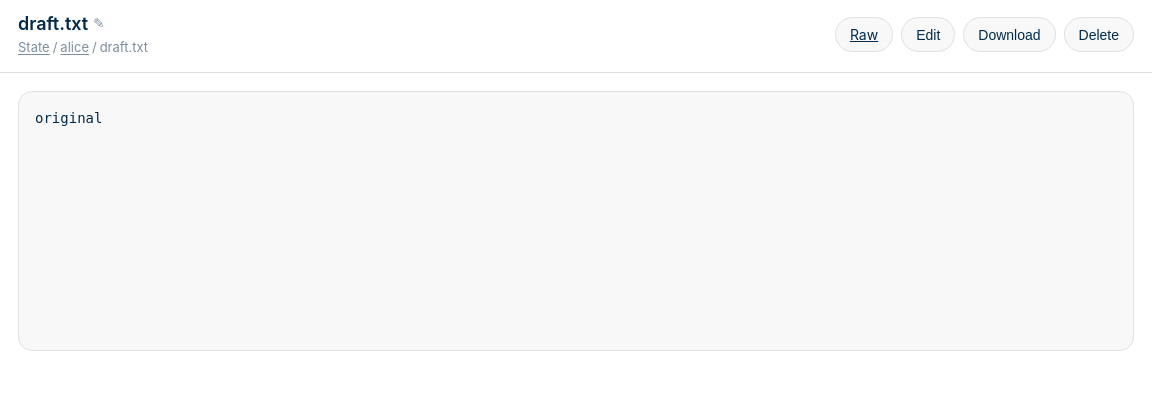
Scenario: ExplorerContent › keeps denied document edits in place and shows a localized save error
Click the button "Edit" at (928, 35), box 901,17 -> 955,52
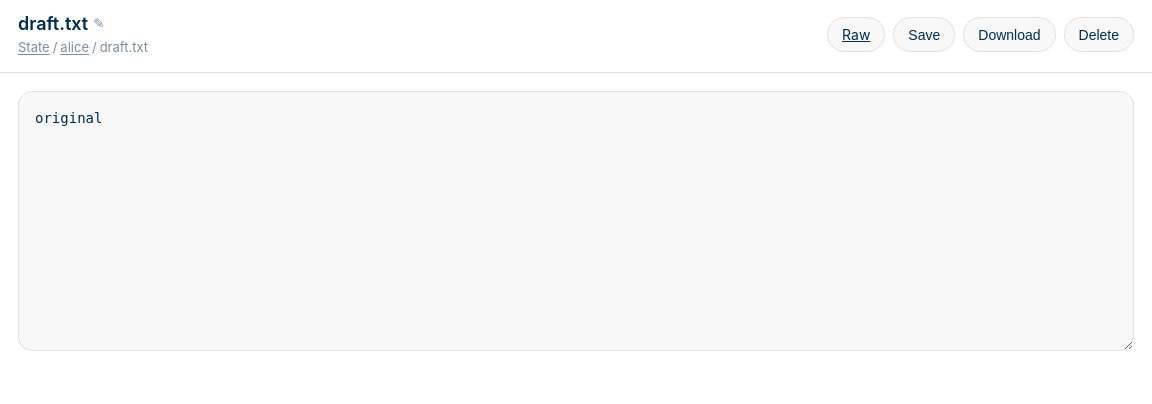
Replace the text in the text box named "Document content" with "unsaved denied edit" at (576, 221), box 18,91 -> 1134,351
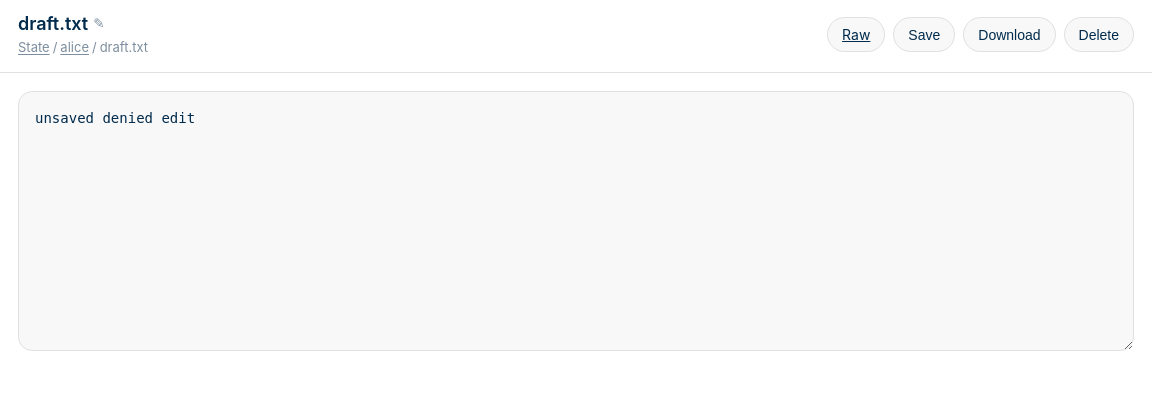
Click the button "Save" at (924, 35), box 893,17 -> 955,52
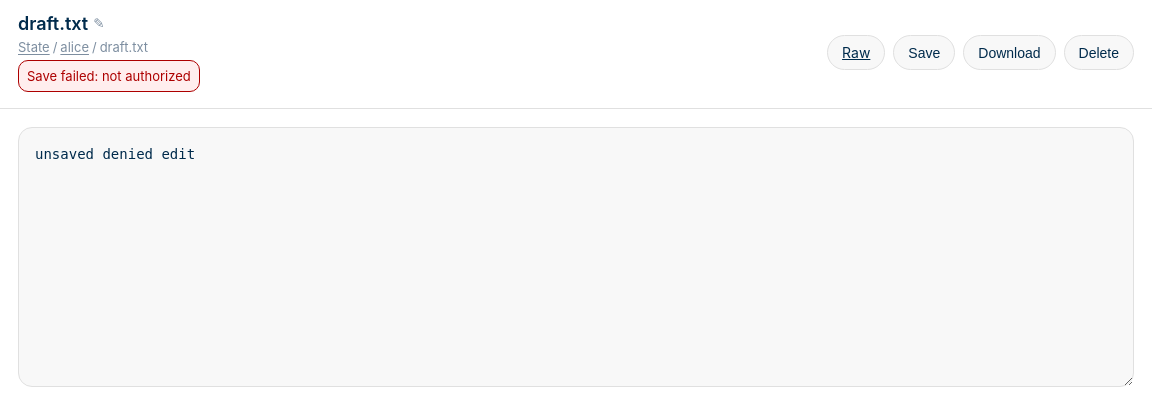
Expected: the button "Save" is shown, 893,35 -> 955,70
Expected: the message reads "Save failed: not authorized", 27,68 -> 191,84
